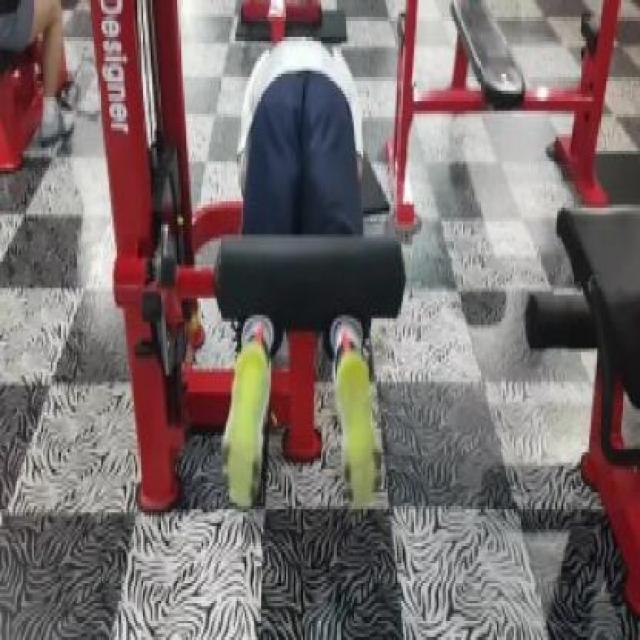reg curl machine: (89, 0, 416, 535)
